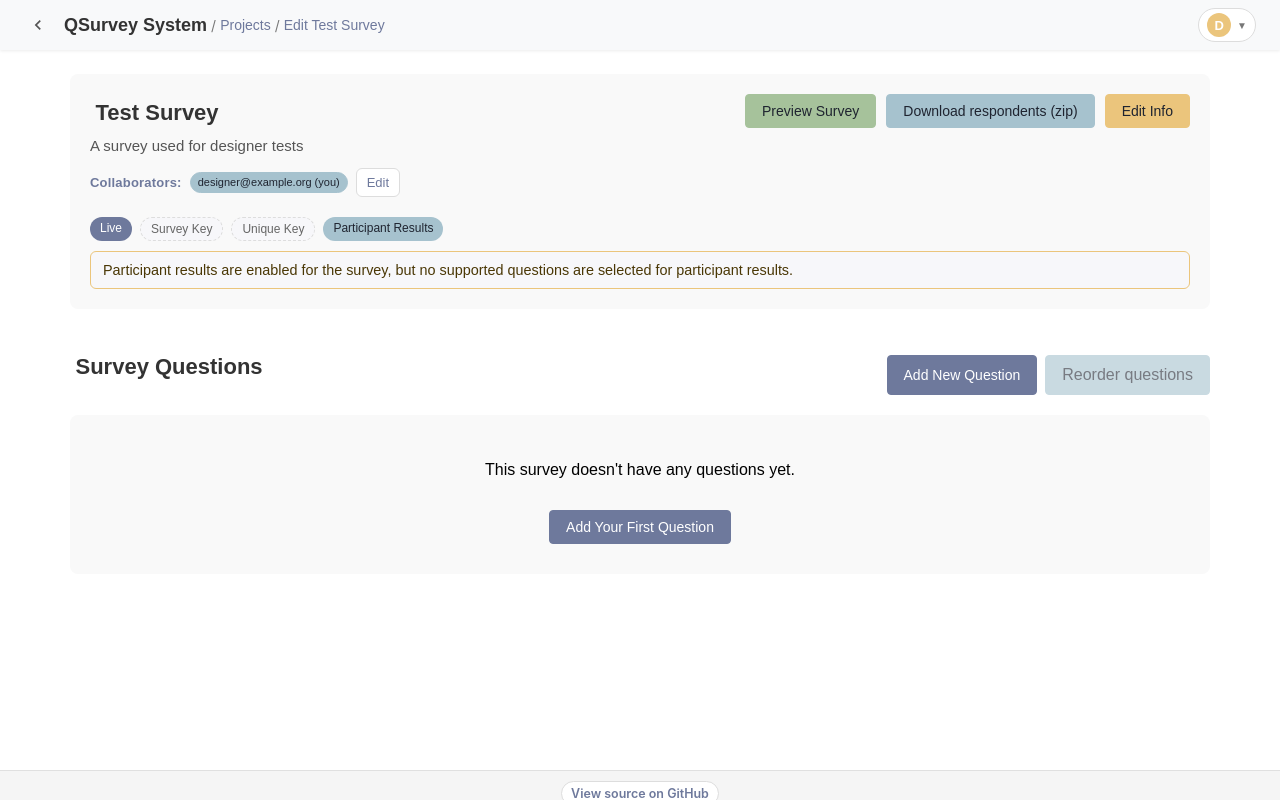
Test: SurveyEdit designer workflows › keeps edit mode open when saving collaborators fails
This screenshot has width=1280, height=800.
Check: the text "Collaborators:" is shown, box [90,175,182,190]
Click the button with aria-label "edit collaborators" at (378, 182), box [356,168,400,197]
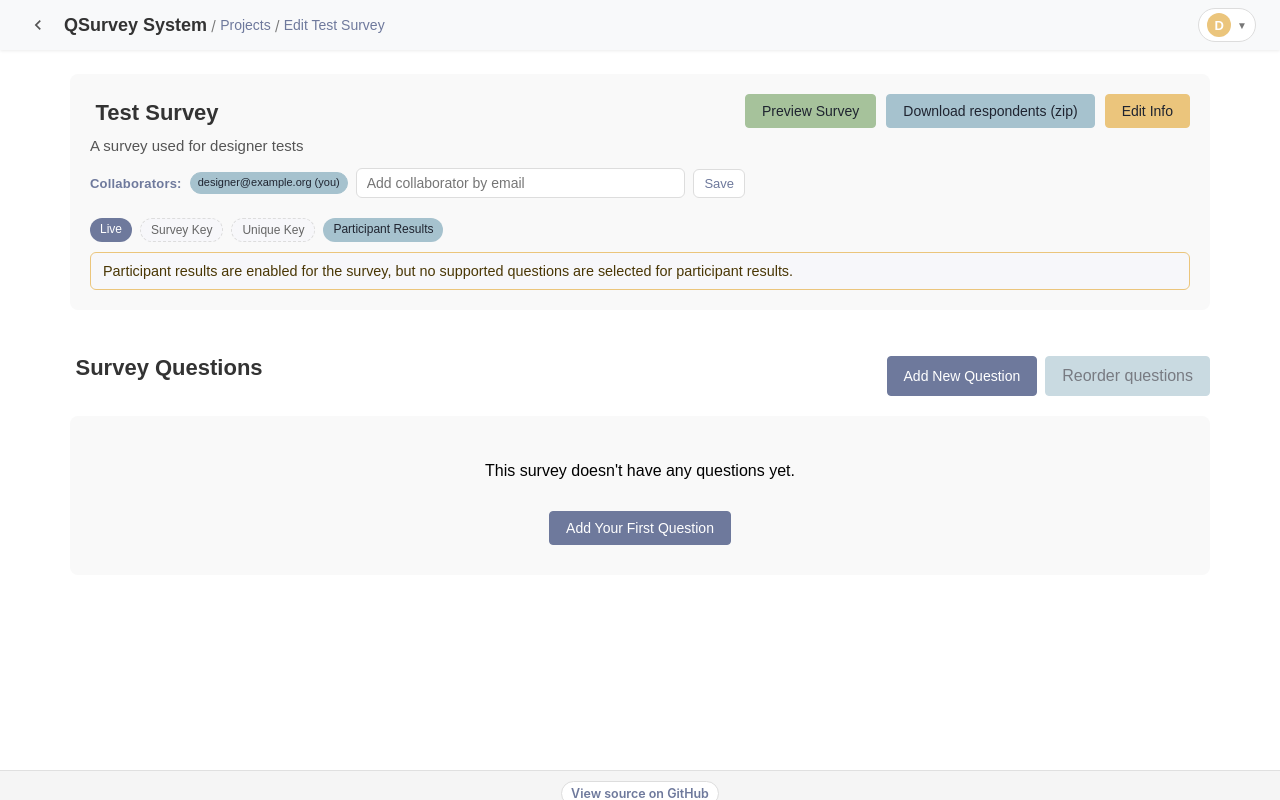
Check: the button with aria-label "edit collaborators" reads "Save"
Click the button with aria-label "edit collaborators" at (719, 183), box [693,168,745,198]
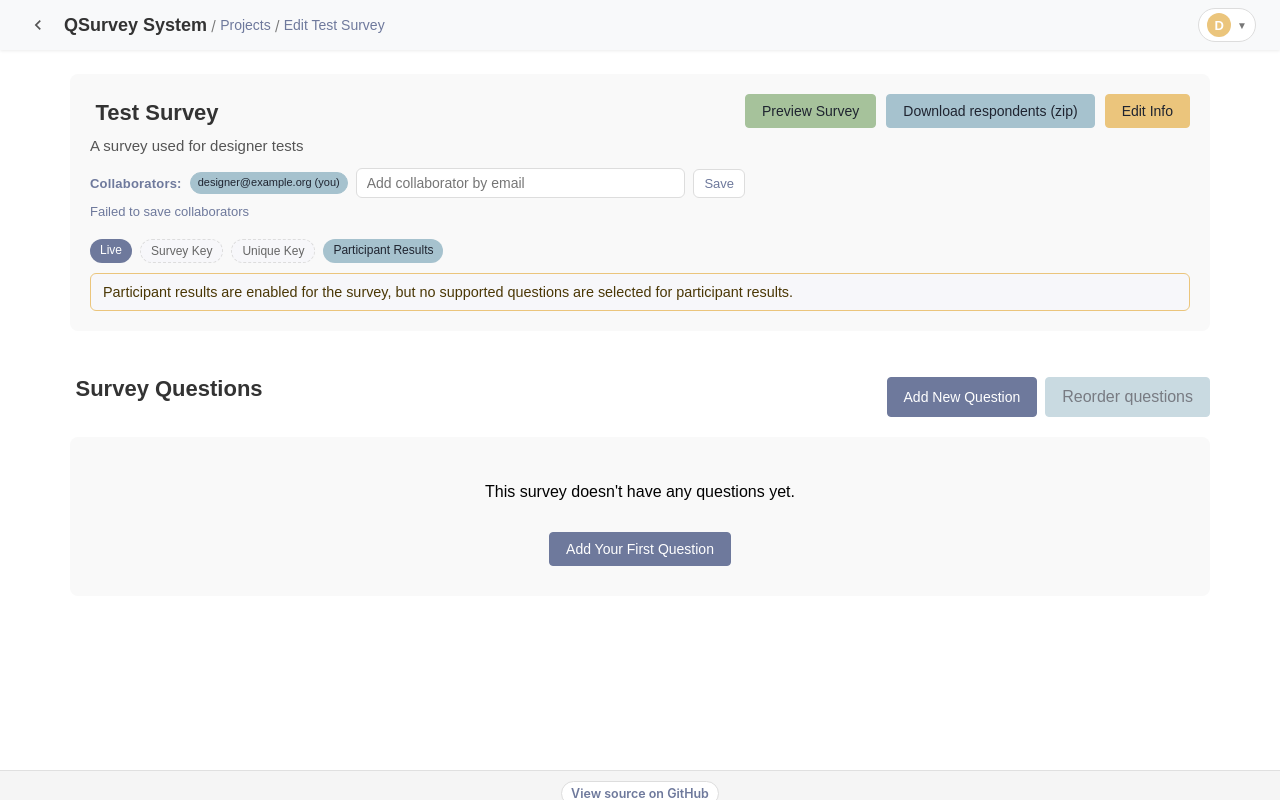
Check: the field named "Add collaborator email" is shown, box [356,168,685,198]
Check: the button with aria-label "edit collaborators" reads "Save", box [693,168,745,198]
Check: the text "Failed to save collaborators" is shown, box [90,204,249,219]
